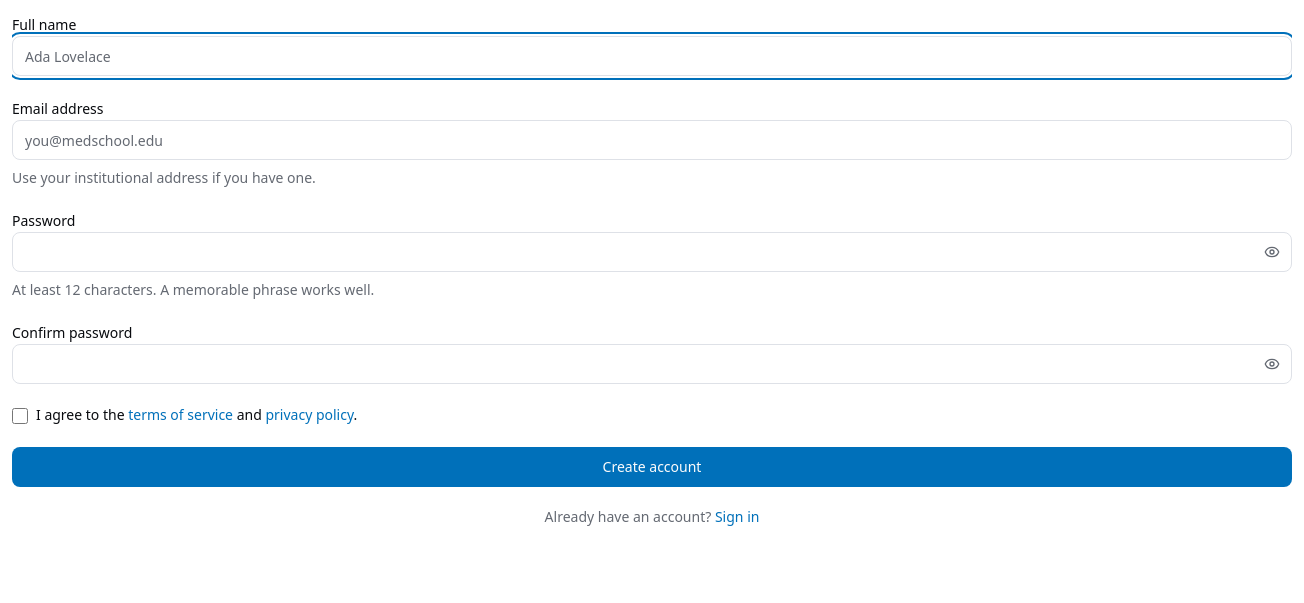
Test: RegisterForm › shows a live strength indicator
The width and height of the screenshot is (1304, 603).
Type "abc" into the password field labelled "Password" at [652, 252], box [12,232,1292,272]
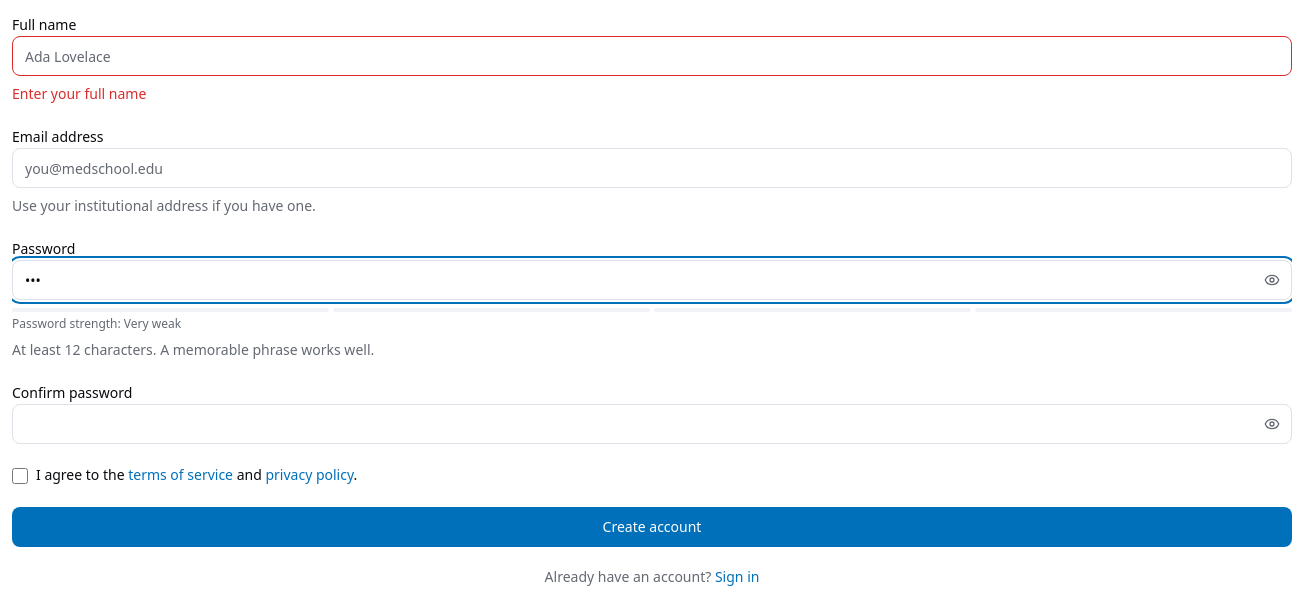
Check: the text "Password strength: Very weak" is shown, box [12,315,181,332]
Type "Th1s-Is-A-Long-Passphrase!" into the password field labelled "Password" at [652, 280], box [12,260,1292,300]
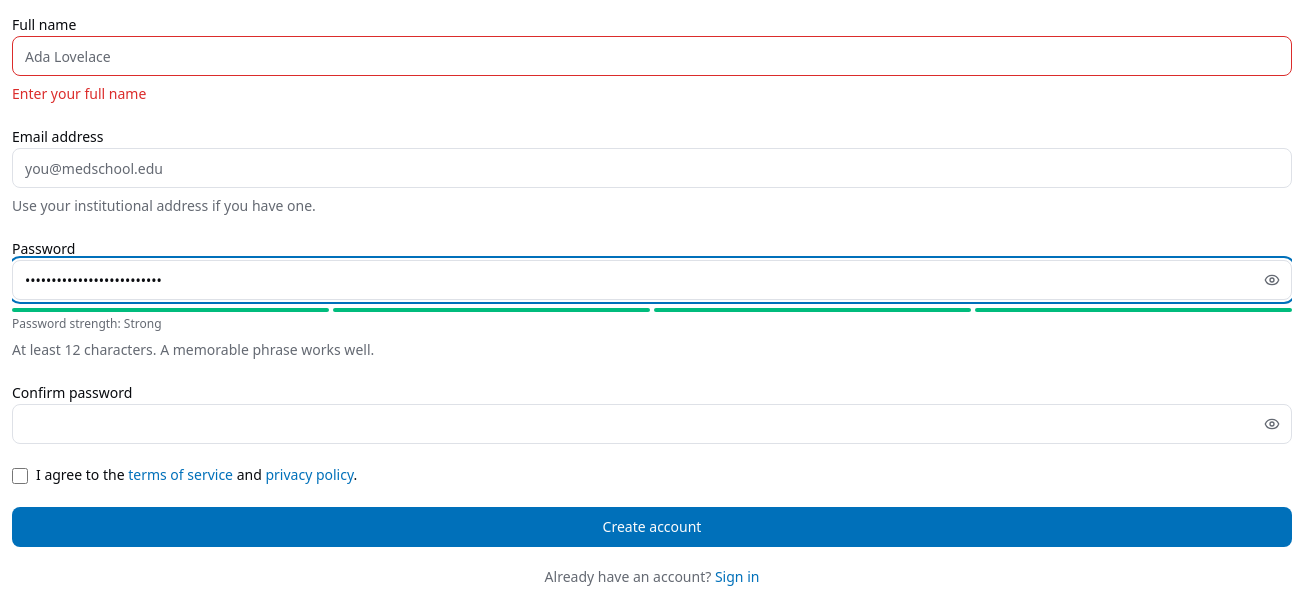
Check: the text "Password strength: Strong" is shown, box [12,315,162,332]
